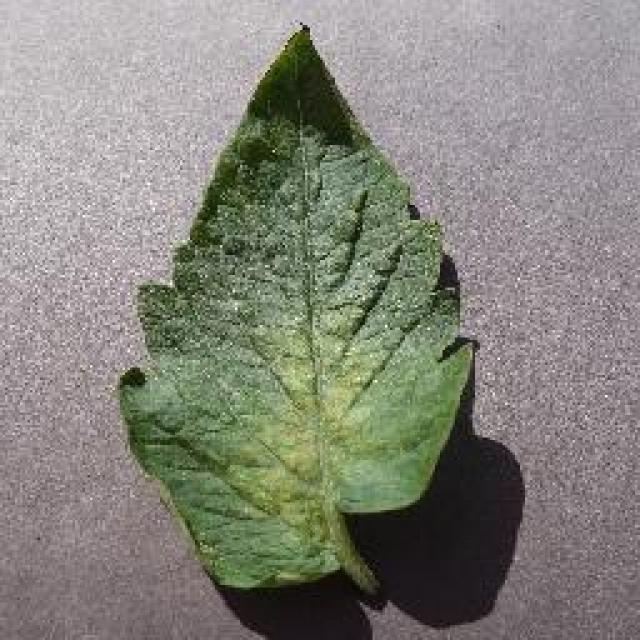Tomato spider mites leaf: (116, 23, 476, 590)
